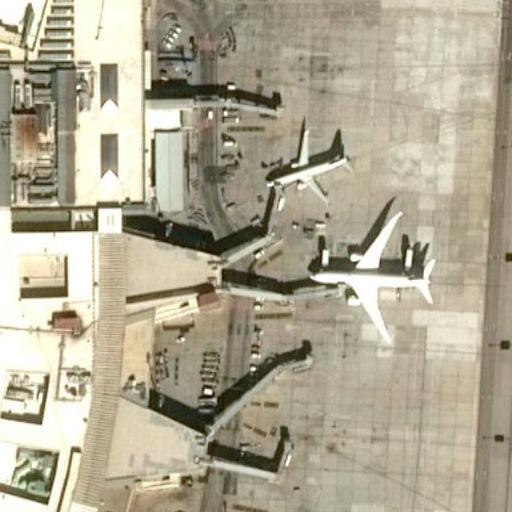Aircraft: (303, 208, 429, 339)
